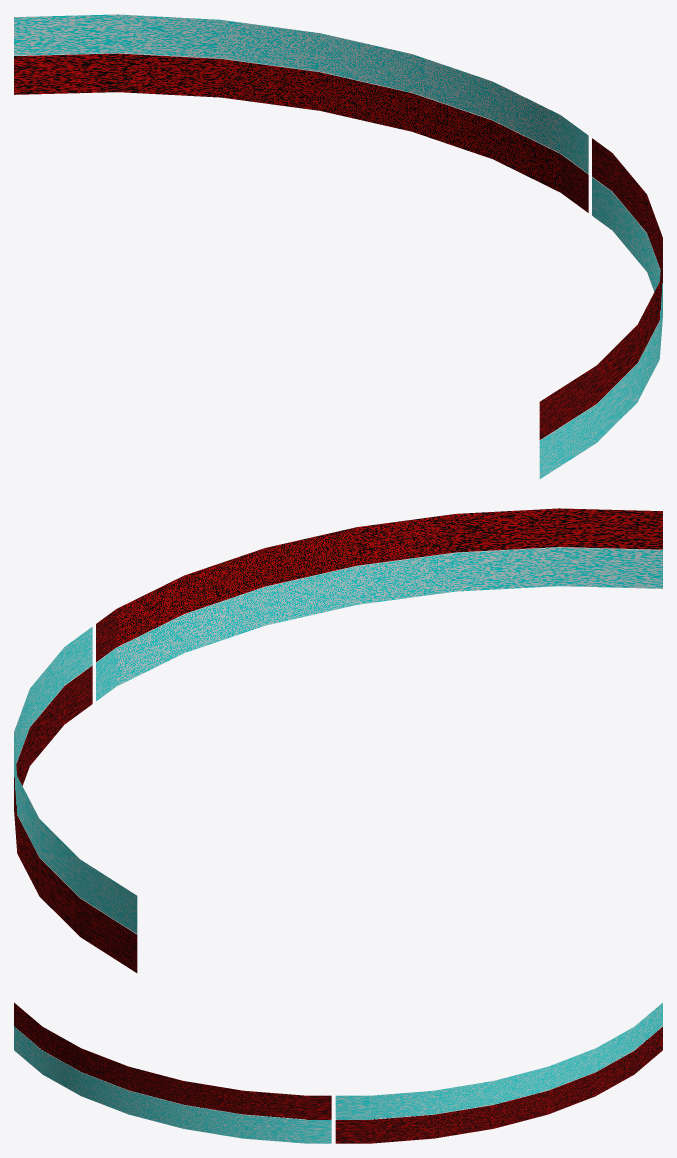
The model's file is SM_HalfCylinder_02_HJS.fbx.
3 renders of one model, top to bottom at view 1: azimuth 30°, elevation 25°; view 2: azimuth 150°, elevation 25°; view 3: azimuth 270°, elevation 25°, orthographic. The views are drawn at different scales.
Parts seen in each view (by area): view 1: SM_HalfCylinder_02_HJS; view 2: SM_HalfCylinder_02_HJS; view 3: SM_HalfCylinder_02_HJS.
Part boxes in pixels (x1,y1,x2,y2): SM_HalfCylinder_02_HJS: [14, 14, 662, 478]; SM_HalfCylinder_02_HJS: [14, 508, 662, 972]; SM_HalfCylinder_02_HJS: [14, 1002, 662, 1143].
Bounding box in the file's own units: 51.79 × 12.48 × 152.
